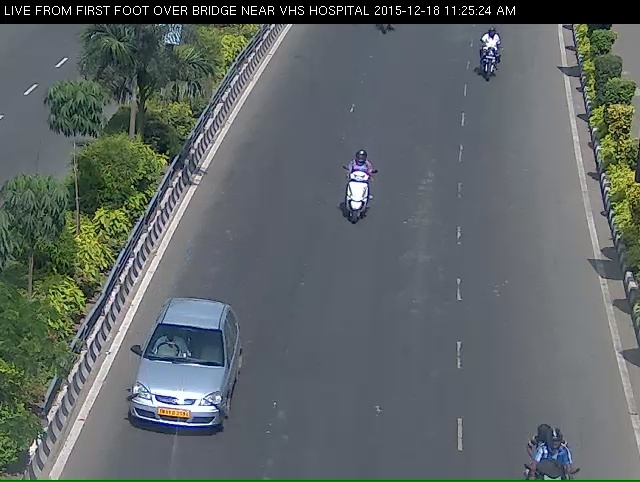Car: (118, 305, 239, 463)
Person: (332, 154, 375, 246), (474, 26, 507, 94)
